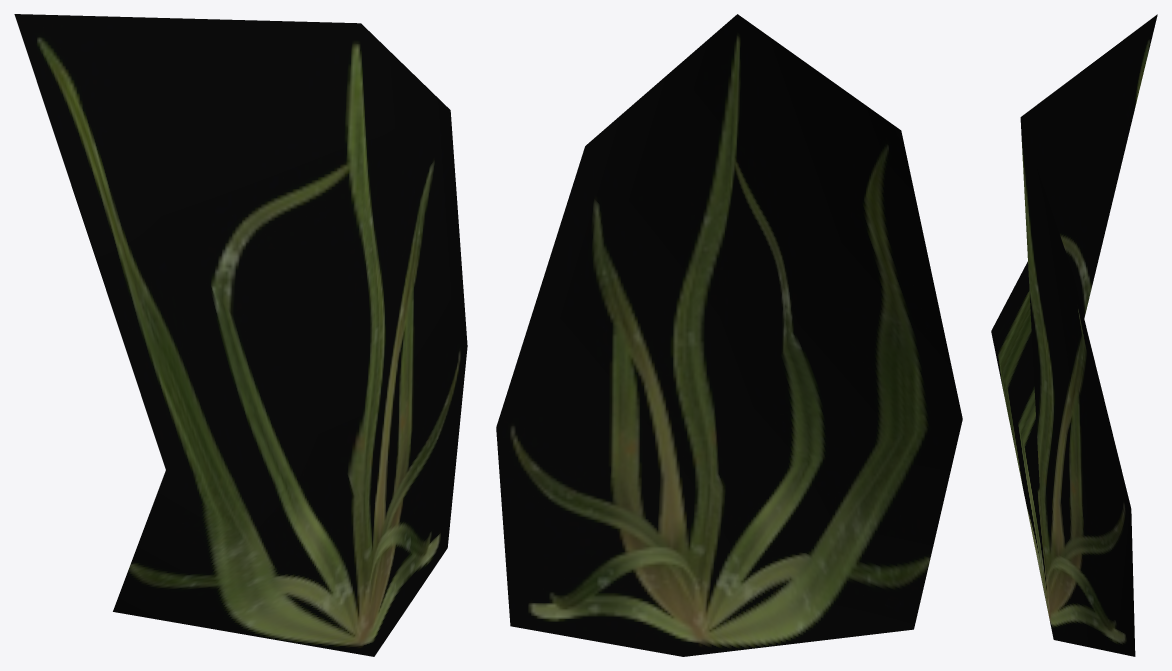
The model's file is grass_bermuda_01.glb.
3 renders of one model, left to right at view 1: azimuth 30°, elevation 25°; view 2: azimuth 150°, elevation 25°; view 3: azimuth 270°, elevation 25°, orthographic. The views are drawn at different scales.
Parts seen in each view (by area): view 1: grass_bermuda_01_medium_b; view 2: grass_bermuda_01_medium_b; view 3: grass_bermuda_01_medium_b.
Part boxes in pixels (x1=…): grass_bermuda_01_medium_b: x1=14, y1=14, x2=467, y2=656; grass_bermuda_01_medium_b: x1=496, y1=14, x2=962, y2=656; grass_bermuda_01_medium_b: x1=991, y1=14, x2=1157, y2=656.
Size of the model in its own units: 0.2047 by 0.2983 by 0.0875.
1 material, 1 textured.
